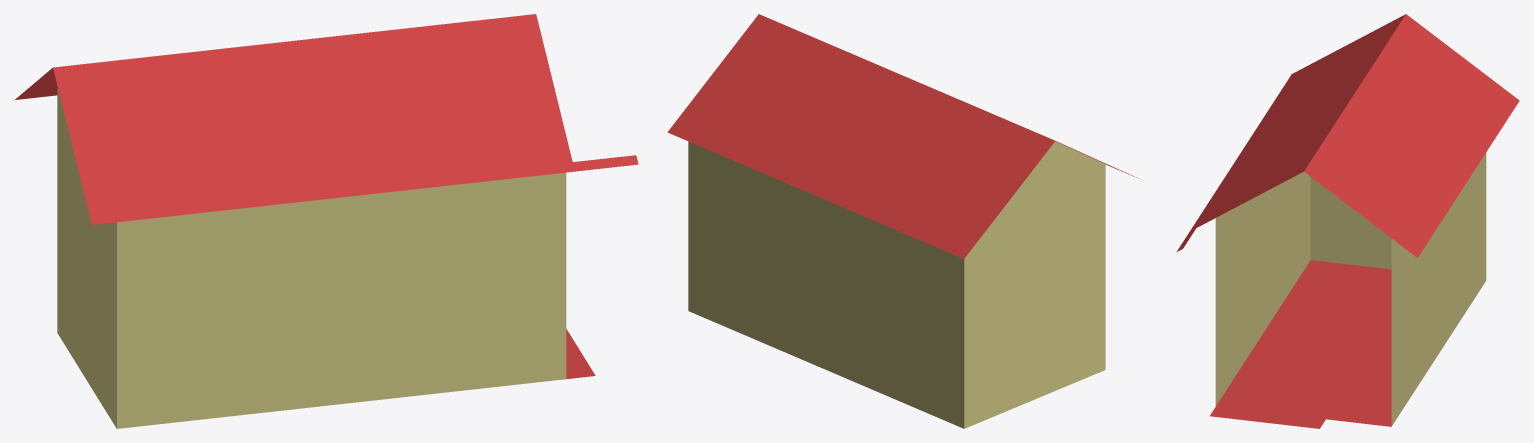
3 renders of one model, left to right at view 1: azimuth 30°, elevation 25°; view 2: azimuth 150°, elevation 25°; view 3: azimuth 270°, elevation 25°, orthographic. The views are drawn at different scales.
Bounding box in the file's own units: 16.04 × 12.67 × 9.97.
